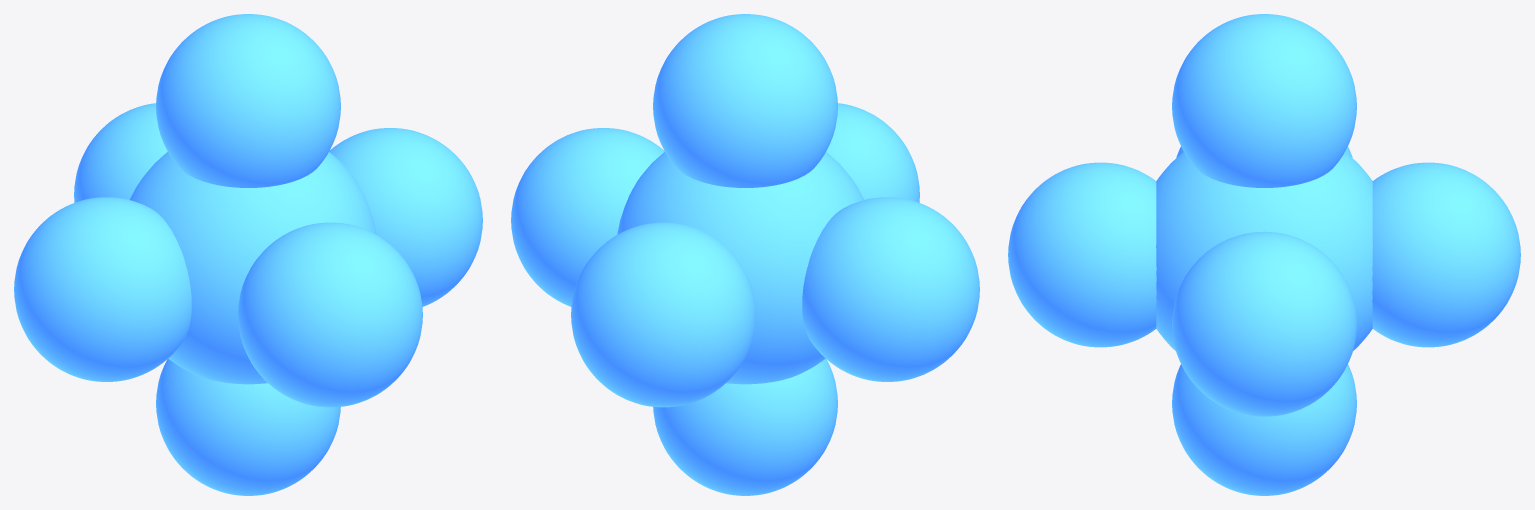
3 views of the same model, side by side, from view 1: azimuth 30°, elevation 25°; view 2: azimuth 150°, elevation 25°; view 3: azimuth 270°, elevation 25° (orthographic).
Visible parts, largest first — view 1: count (×7); view 2: count (×7); view 3: count (×6).
Boxes of the visible parts, bbox=[...] form: count (×7): bbox=[14, 14, 482, 495]; count (×7): bbox=[511, 14, 979, 495]; count (×6): bbox=[1008, 14, 1520, 495].
Bounding box in the file's own units: 0.266 × 0.266 × 0.266.
